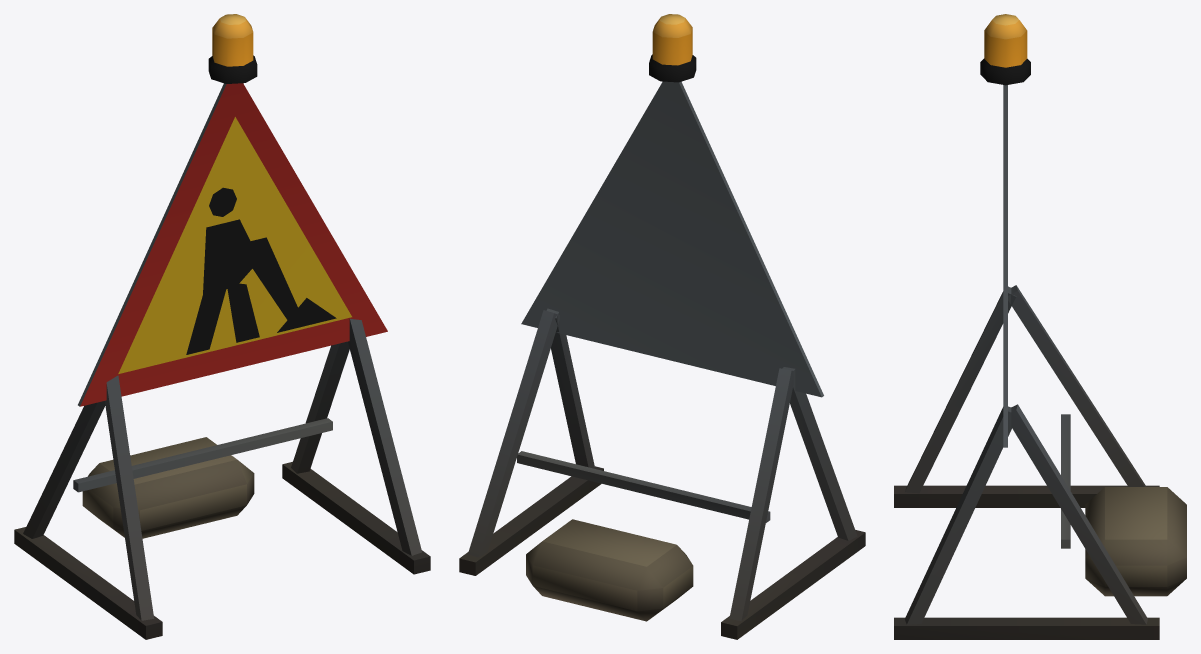
Rendered from road_works_sign.glb.
3 renders of one model, left to right at view 1: azimuth 30°, elevation 25°; view 2: azimuth 150°, elevation 25°; view 3: azimuth 270°, elevation 25°, orthographic. The views are drawn at different scales.
Visible parts, largest first — view 1: RoadWorksSign; view 2: RoadWorksSign; view 3: RoadWorksSign.
Part boxes in pixels (left/top/right/bottom): RoadWorksSign: left=14, top=14, right=430, bottom=639; RoadWorksSign: left=459, top=14, right=865, bottom=639; RoadWorksSign: left=894, top=14, right=1186, bottom=639.
Bounding box in the file's own units: 0.92 × 1.56 × 0.75.
